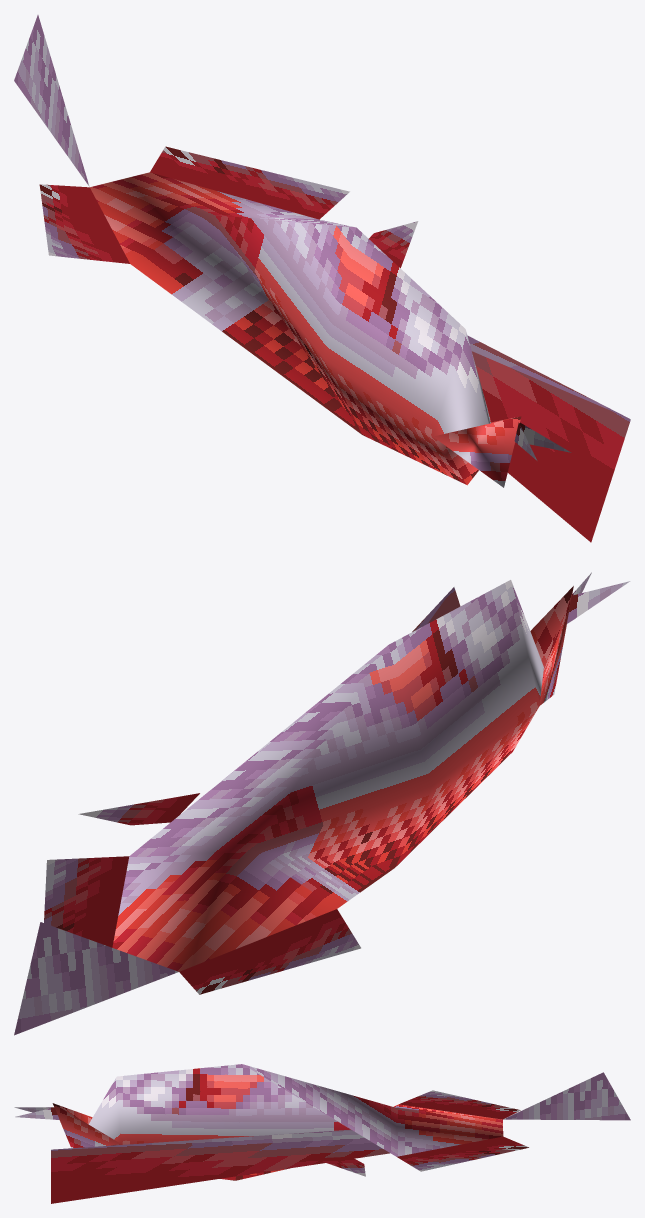
3 views of the same model, one above another, from view 1: azimuth 30°, elevation 25°; view 2: azimuth 150°, elevation 25°; view 3: azimuth 270°, elevation 25° (orthographic). The views are drawn at different scales.
Visible parts, largest first — view 1: 4805fish15; view 2: 4805fish15; view 3: 4805fish15.
Part boxes in pixels (x1,y1,x2,y2): 4805fish15: (14,15,630,542); 4805fish15: (14,572,630,1035); 4805fish15: (14,1064,630,1203).
Size of the model in its own units: 0.3582 by 0.2312 by 1.07.
1 material, 1 textured.
